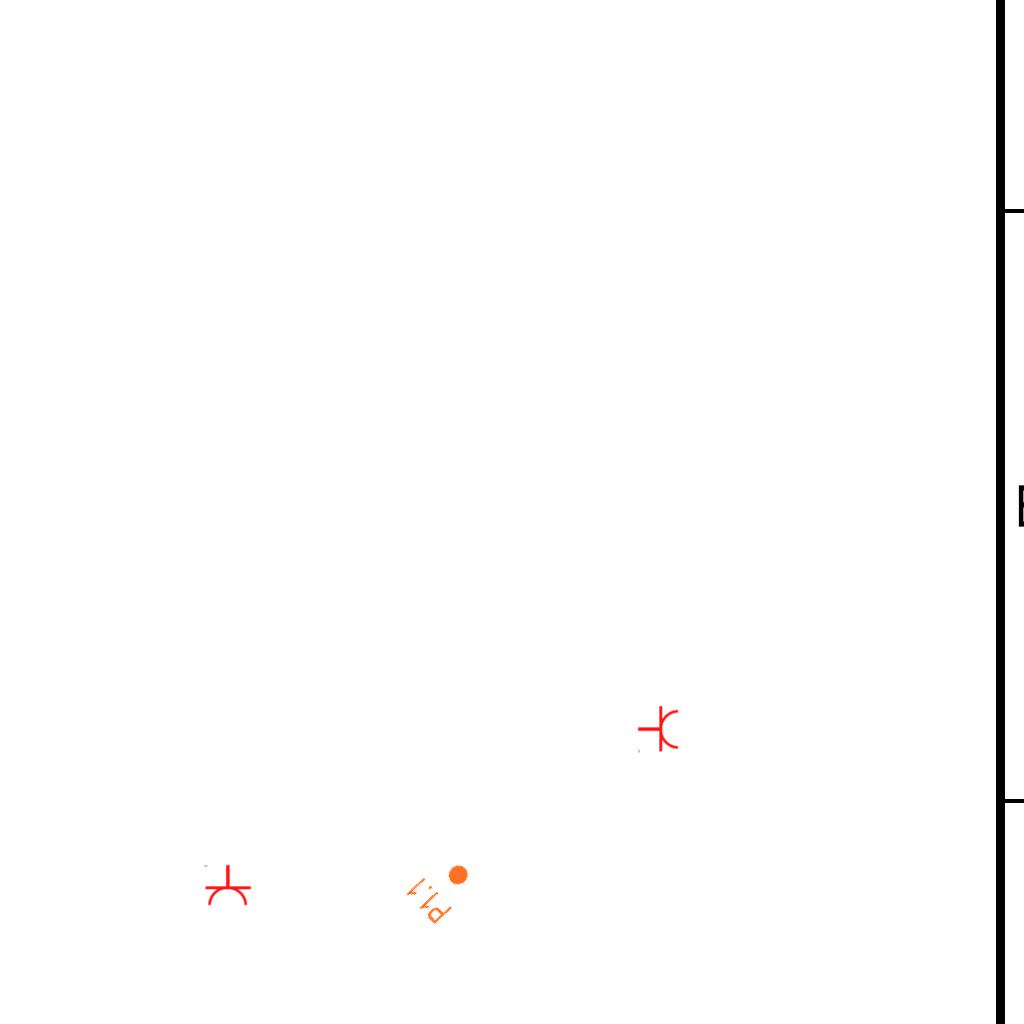Downlight_LED_Einbauleuchten_Flur: (402, 849, 482, 927)
Schukosteckdose_einfach: (202, 864, 252, 907), (637, 705, 680, 755)
